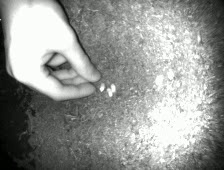corn: (153, 73, 165, 86), (105, 86, 114, 100), (97, 81, 107, 93), (109, 81, 117, 94)
